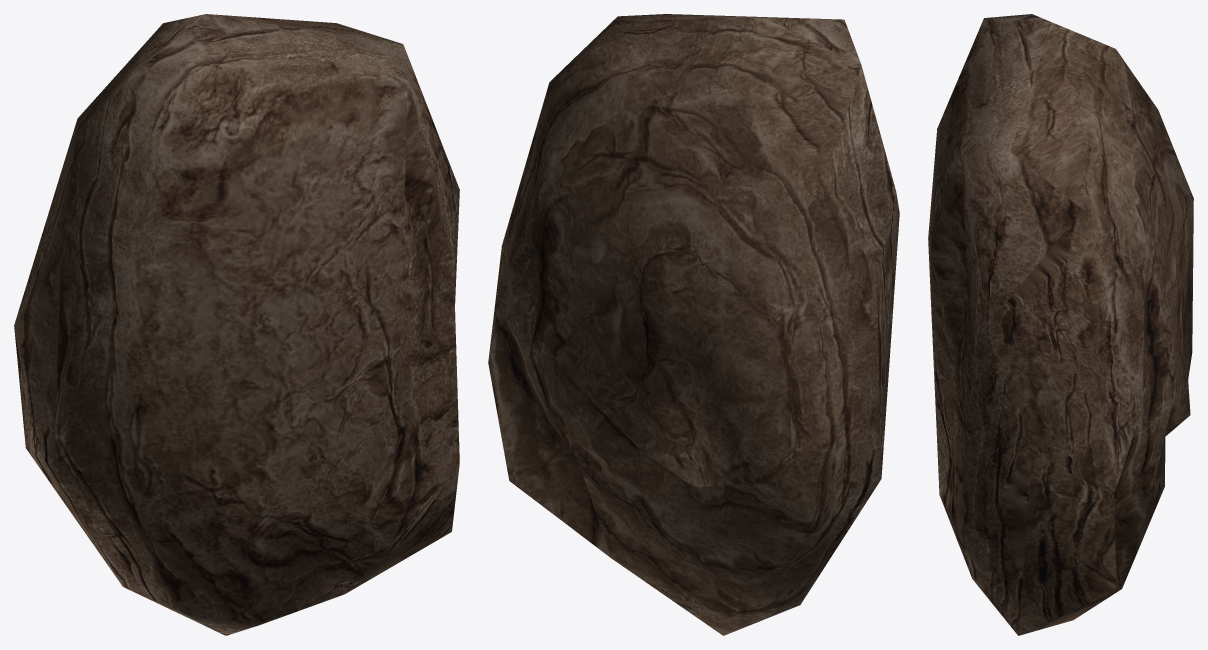
The model's file is AEP_Rock_05_LOD_02.fbx.
The picture shows the model from 3 angles, left to right: view 1: azimuth 30°, elevation 25°; view 2: azimuth 150°, elevation 25°; view 3: azimuth 270°, elevation 25°; orthographic projection. The views are drawn at different scales.
Parts seen in each view (by area): view 1: AEP_Rock_05_LOD_02; view 2: AEP_Rock_05_LOD_02; view 3: AEP_Rock_05_LOD_02.
Boxes of the visible parts, bbox=[...] form: AEP_Rock_05_LOD_02: bbox=[14, 14, 459, 635]; AEP_Rock_05_LOD_02: bbox=[488, 14, 899, 635]; AEP_Rock_05_LOD_02: bbox=[928, 14, 1193, 635].
Size of the model in its own units: 1.89 by 2.96 by 1.22.
